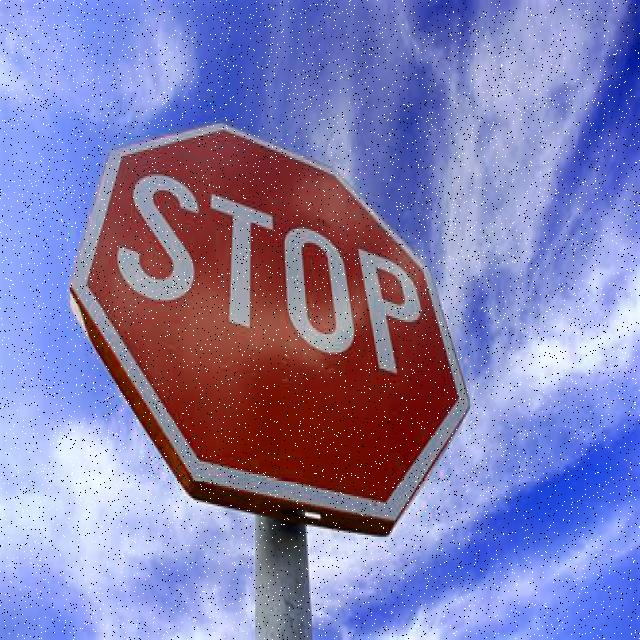stop: (70, 99, 471, 515)
